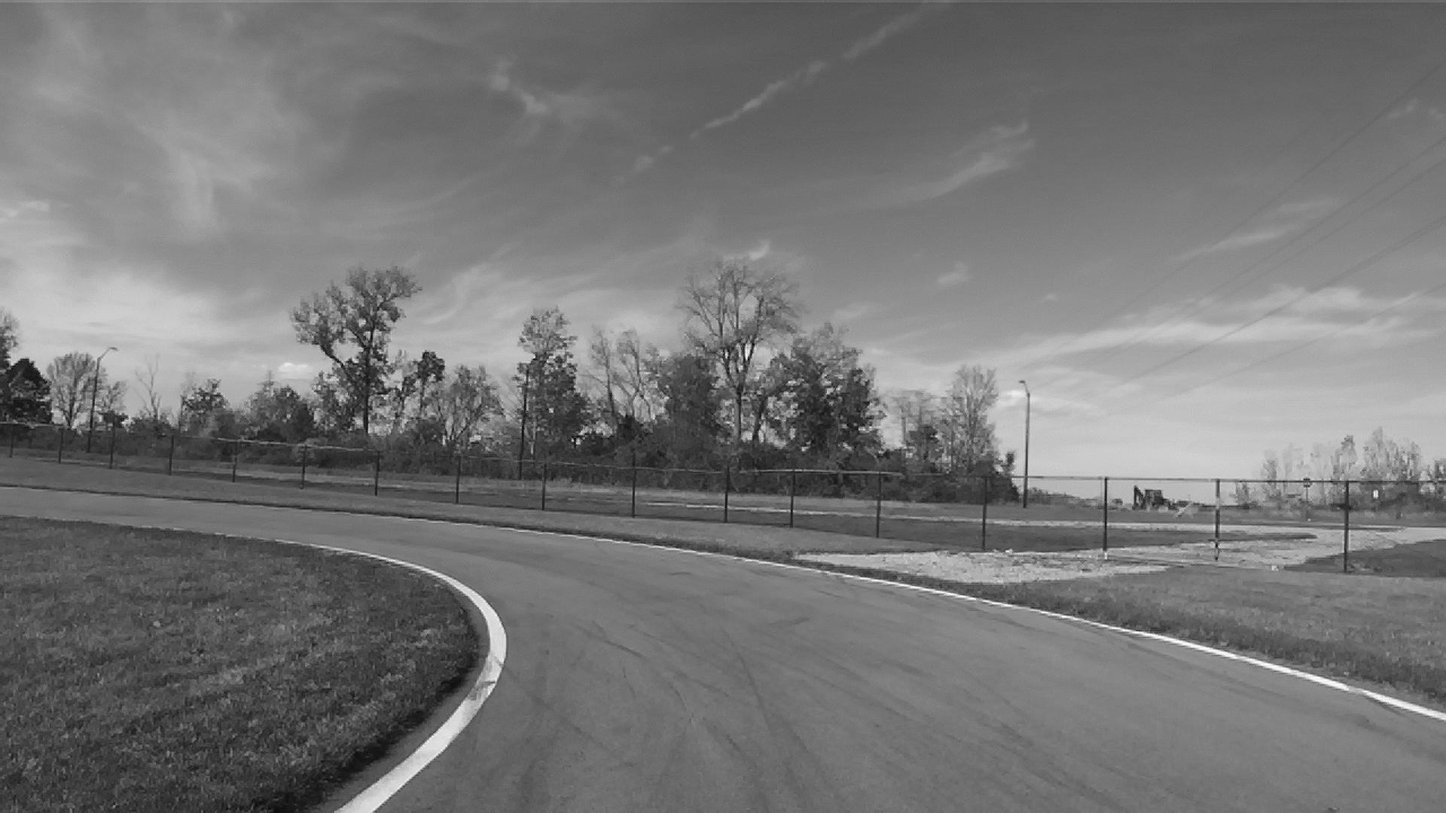white-line: (474, 523, 1445, 722), (270, 537, 505, 812)
